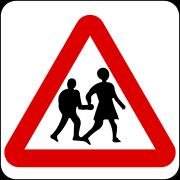School Ahead: (25, 17, 160, 172)
